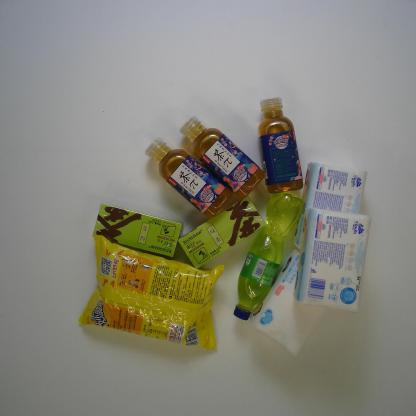Drink: (232, 191, 304, 322), (143, 137, 234, 220), (178, 115, 266, 200), (257, 96, 304, 194)
Instant Drink: (178, 194, 266, 270), (91, 202, 184, 259)
Puffed Food: (76, 234, 226, 352)
Tissue: (293, 206, 373, 315), (249, 245, 326, 358), (292, 161, 368, 250)
